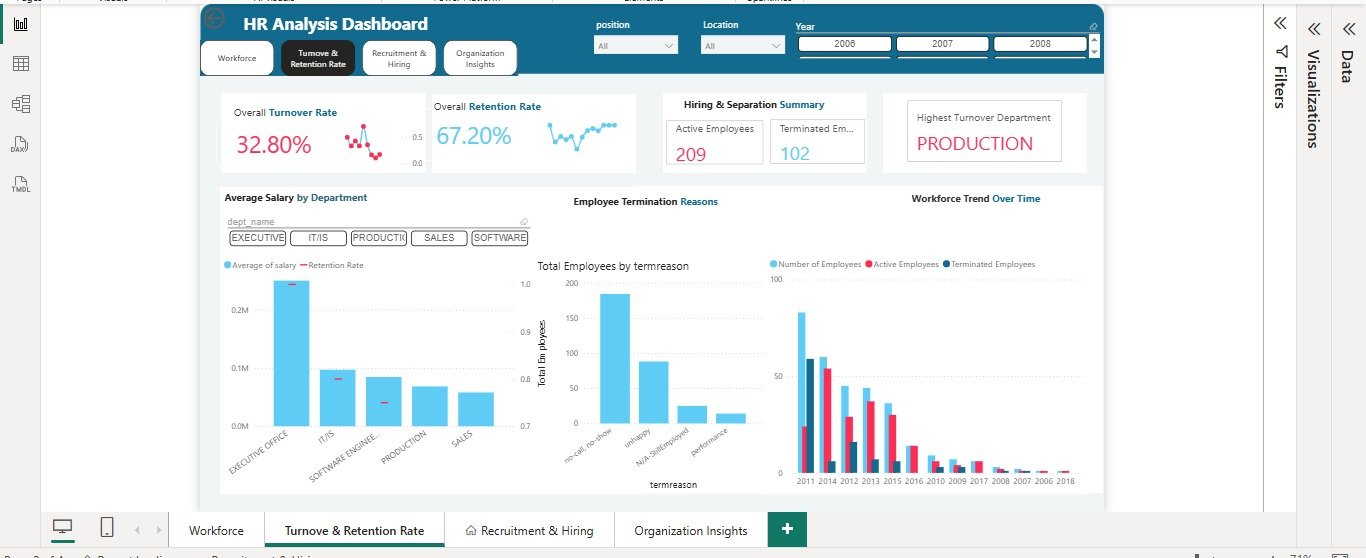

This screenshot's page, from the dashboard's own definition file:
{"tool":"powerbi","page":{"name":"Turnove &  Retention Rate","canvas":[1280,720],"ordinal":1},"visuals":[{"type":"shape","box":[618,258,661.9,435.1],"z":0},{"type":"shape","box":[28.9,258.7,602.6,435.2],"z":1000},{"type":"shape","box":[29.3,125.5,290.1,113],"z":2000},{"type":"clusteredColumnChart","fields":{"Category":["Calendar_Hire.Year"],"Y":["fact_hr_snapshot.No. of Emp","dim_emp_status.Active Employees","dim_emp_status.Terminated Employees"]},"box":[802.2,348.7,453.5,345.8],"z":3000},{"type":"lineStackedColumnComboChart","fields":{"Category":["dim_department.dept_name"],"Y":["Avg(fact_hr_snapshot.salary)"],"Y2":["dim_emp_status.Retention Rate"]},"box":[28.3,350.1,445,344.4],"z":4000},{"type":"shape","box":[328.8,127.6,289.1,112],"z":5000},{"type":"shape","box":[655.6,125.5,288.7,113],"z":6000},{"type":"shape","box":[968,125.5,288.7,113],"z":7000},{"type":"card","title":"Overall Turnover Rate","fields":{"Values":["dim_emp_status.Retention Rate"]},"box":[304.7,153.1,192.8,75.1],"z":8000},{"type":"lineChart","fields":{"Category":["Calendar_Hire.Year"],"Y":["dim_emp_status.Retention Rate"]},"box":[451.4,152.9,144.3,61.4],"z":9000},{"type":"Timeline1447991079100","box":[839.2,22.3,440.8,65.6],"z":10000},{"type":"cardVisual","fields":{"Data":["dim_emp_status.Terminated Employees"]},"box":[800.8,158.7,144.6,73.7],"z":11000},{"type":"textbox","box":[29.8,259.4,275,39.7],"z":12000},{"type":"textbox","box":[1003.5,260.8,276.4,39.7],"z":13000},{"type":"textbox","box":[33.5,138.1,174.4,40.5],"z":14000},{"type":"textbox","box":[340.1,139.8,173.7,40.1],"z":15000},{"type":"textbox","box":[653.4,127.6,263.6,39.7],"z":16000},{"type":"actionButton","box":[101.1,62.2,99.9,40],"z":17000},{"type":"actionButton","box":[249.4,62.4,151.7,39.7],"z":18000},{"type":"slicer","fields":{"Values":["dim_position.position"]},"box":[566.2,16.7,138.6,71.8],"z":19000},{"type":"textbox","box":[57.2,5.6,344.5,58.6],"z":20000},{"type":"slicer","fields":{"Values":["dim_department.dept_name"]},"box":[711.5,17,138.9,70.9],"z":21000},{"type":"lineStackedColumnComboChart","fields":{"Category":["Calendar_Hire.Year"],"Y2":["dim_emp_status.Turnover Rate"]},"box":[184.3,153.1,136.1,86.5],"z":22000},{"type":"card","title":"Overall Retention Rate","fields":{"Values":["dim_emp_status.Turnover Rate"]},"box":[22.7,158.7,161.6,76.5],"z":23000},{"type":"ChicletSlicer1448559807354","fields":{"Category":["dim_department.dept_name"]},"box":[34,296.2,439.4,63.8],"z":24000},{"type":"cardVisual","fields":{"Data":["dim_emp_status.Active Employees"]},"box":[655.7,160,147.1,72.9],"z":25000},{"type":"clusteredColumnChart","fields":{"Category":["dim_emp_status.termreason"],"Y":["fact_hr_snapshot.No. of Emp"]},"box":[473.4,360,328.8,334.5],"z":26000},{"type":"cardVisual","fields":{"Data":["dim_department.Highest Turnover Department"]},"box":[997.8,131.8,229.6,97.8],"z":27000},{"type":"actionButton","box":[0,0,100,40],"z":28000},{"type":"textbox","box":[524.4,265,219.7,31.2],"z":29000}]}

Visuals, with their boxes on the page's 1280x720 design canvas (x1, y1, x2, y2). These are canvas units, not pixel positions in the 1366x558 screenshot, which may show the page scaled, cropped or inside an application window:
shape: [x1=618, y1=258, x2=1280, y2=693]
shape: [x1=29, y1=259, x2=632, y2=694]
shape: [x1=29, y1=126, x2=319, y2=238]
clusteredColumnChart - Calendar_Hire.Year x fact_hr_snapshot.No. of Emp: [x1=802, y1=349, x2=1256, y2=694]
lineStackedColumnComboChart - dim_department.dept_name x Avg(fact_hr_snapshot.salary): [x1=28, y1=350, x2=473, y2=694]
shape: [x1=329, y1=128, x2=618, y2=240]
shape: [x1=656, y1=126, x2=944, y2=238]
shape: [x1=968, y1=126, x2=1257, y2=238]
"Overall Turnover Rate" card: [x1=305, y1=153, x2=498, y2=228]
lineChart - Calendar_Hire.Year x dim_emp_status.Retention Rate: [x1=451, y1=153, x2=596, y2=214]
Timeline1447991079100: [x1=839, y1=22, x2=1280, y2=88]
cardVisual - dim_emp_status.Terminated Employees: [x1=801, y1=159, x2=945, y2=232]
textbox: [x1=30, y1=259, x2=305, y2=299]
textbox: [x1=1004, y1=261, x2=1280, y2=300]
textbox: [x1=34, y1=138, x2=208, y2=179]
textbox: [x1=340, y1=140, x2=514, y2=180]
textbox: [x1=653, y1=128, x2=917, y2=167]
actionButton: [x1=101, y1=62, x2=201, y2=102]
actionButton: [x1=249, y1=62, x2=401, y2=102]
slicer - dim_position.position: [x1=566, y1=17, x2=705, y2=88]
textbox: [x1=57, y1=6, x2=402, y2=64]
slicer - dim_department.dept_name: [x1=712, y1=17, x2=850, y2=88]
lineStackedColumnComboChart - Calendar_Hire.Year x dim_emp_status.Turnover Rate: [x1=184, y1=153, x2=320, y2=240]
"Overall Retention Rate" card: [x1=23, y1=159, x2=184, y2=235]
ChicletSlicer1448559807354 - dim_department.dept_name: [x1=34, y1=296, x2=473, y2=360]
cardVisual - dim_emp_status.Active Employees: [x1=656, y1=160, x2=803, y2=233]
clusteredColumnChart - dim_emp_status.termreason x fact_hr_snapshot.No. of Emp: [x1=473, y1=360, x2=802, y2=694]
cardVisual - dim_department.Highest Turnover Department: [x1=998, y1=132, x2=1227, y2=230]
actionButton: [x1=0, y1=0, x2=100, y2=40]
textbox: [x1=524, y1=265, x2=744, y2=296]
